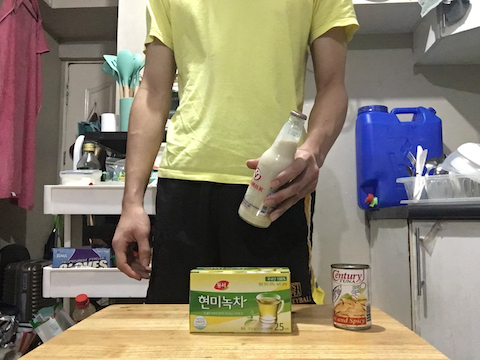bottle: (236, 105, 309, 229)
box: (185, 264, 299, 339)
can: (329, 262, 374, 332)
grab: (263, 150, 319, 226)
